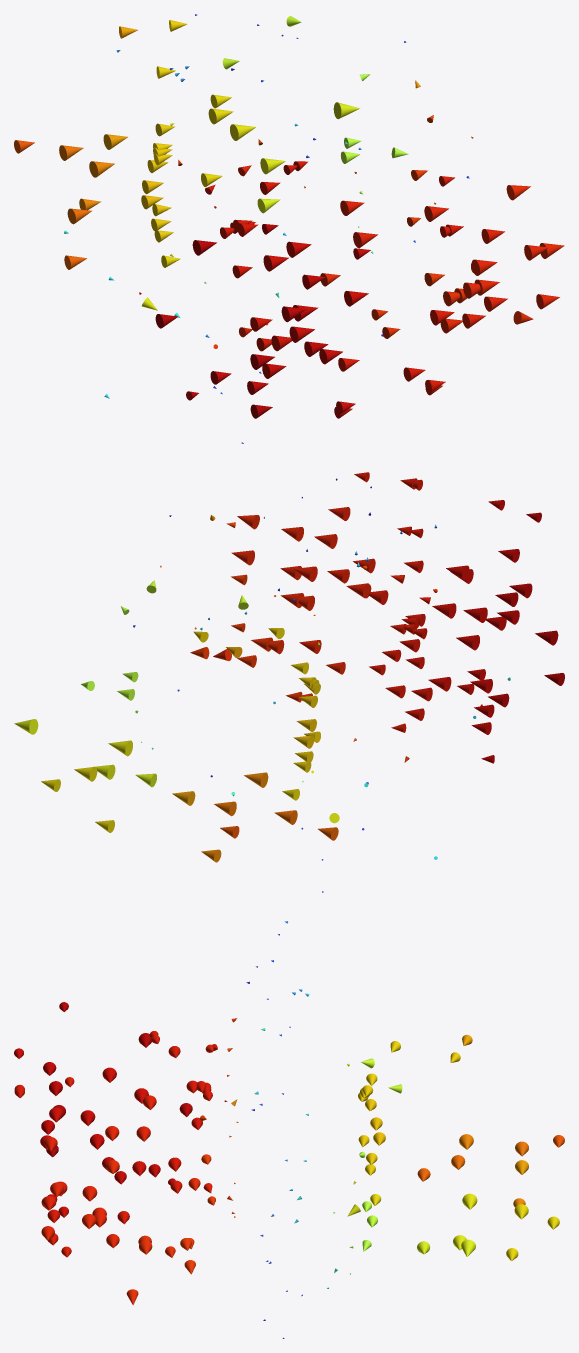
File: LineasCorrienteH2-O2_mh2-2.70_V-1.glb
The picture shows the model from 3 angles, top to bottom: view 1: azimuth 30°, elevation 25°; view 2: azimuth 150°, elevation 25°; view 3: azimuth 270°, elevation 25°; orthographic projection. The views are drawn at different scales.
Size of the model in its own units: 0.000926 by 0.000949 by 0.00123.
2 materials, 2 textured.
